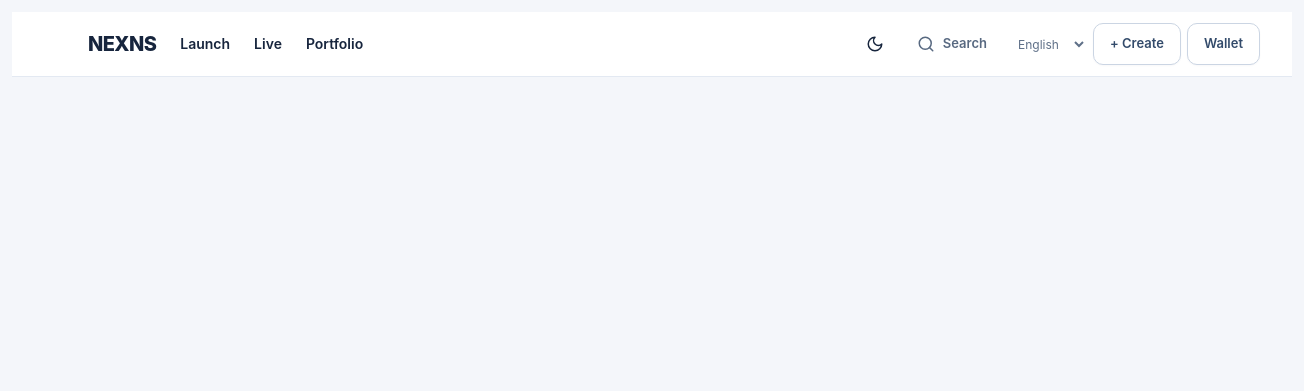
Scenario: four-section information architecture › keeps secondary destinations in the logo menu and three bottom links
What coordinates should you click on to do the following:
click the button with aria-label "Product menu"
I would click on:
 (100, 44)
Its box is [44,25,156,63].
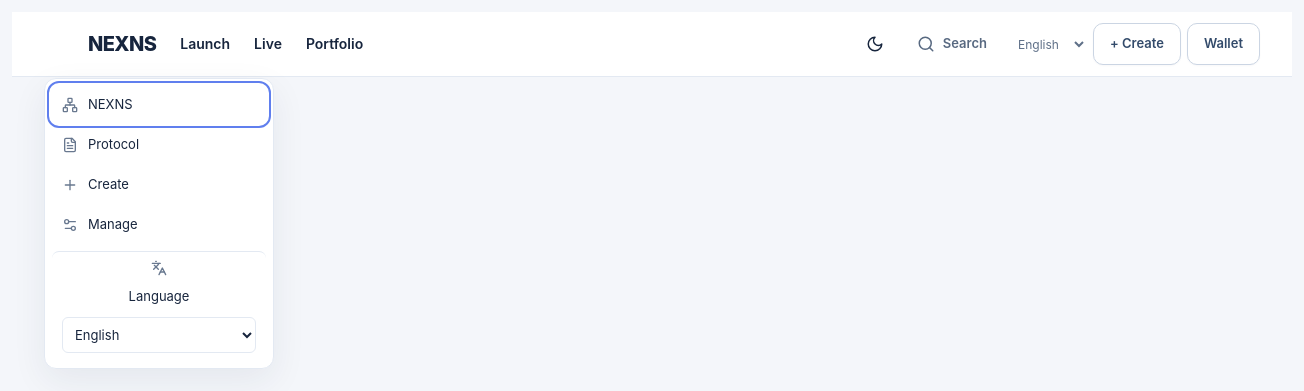
expect the link "Protocol" is shown: met, box [62,136,139,152]
expect the link "Manage" is shown: met, box [62,216,138,232]
